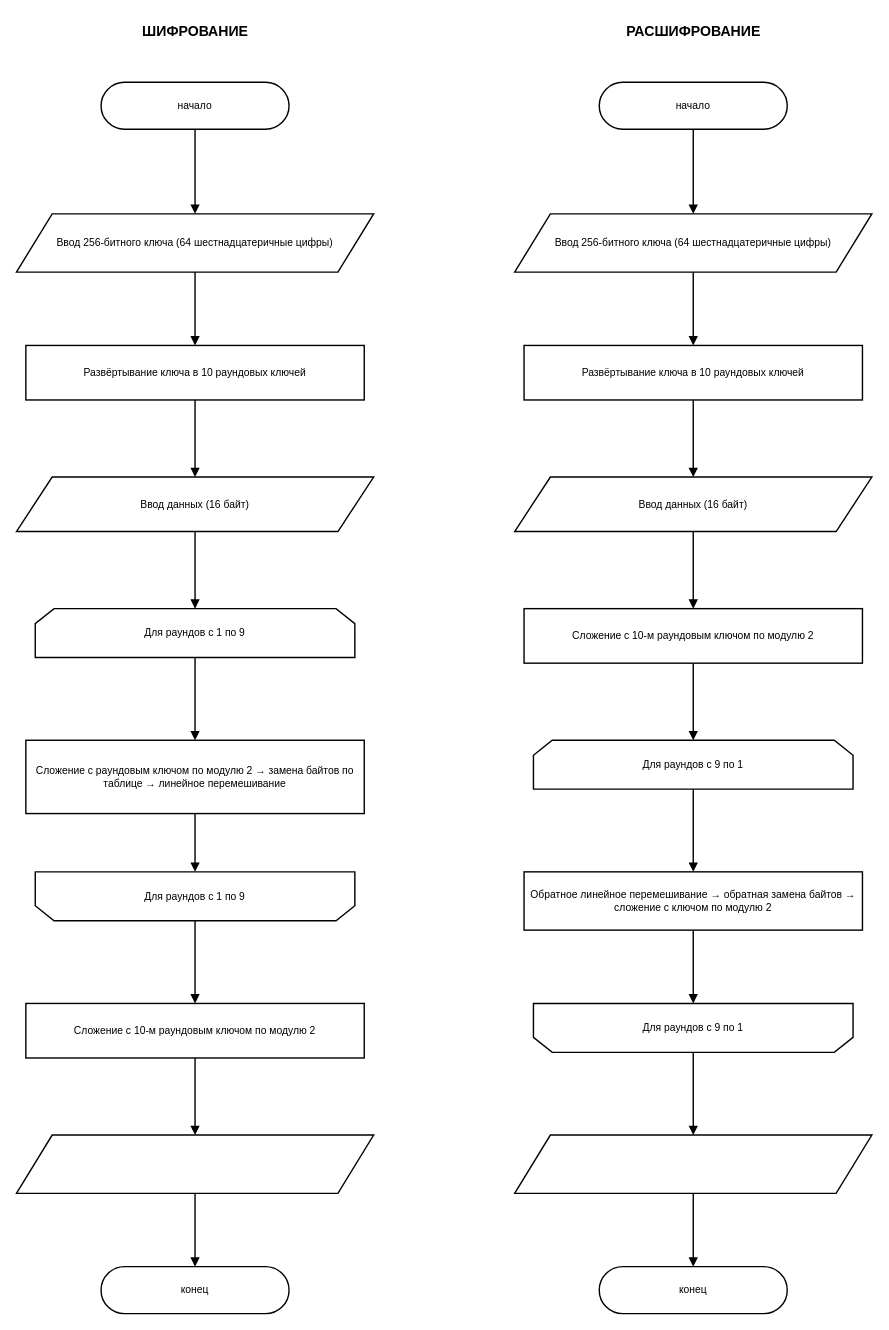
The diagram is 889 pixels wide and 1330 high, and some of its shapes have lost their labels. The box of each missing label's shape, as (x1, y1, x2, y2) in pixels:
Вывод открытого блока (в шестнадцатеричном виде): (514, 1134, 872, 1194)
Вывод шифртекста (в шестнадцатеричном виде): (15, 1134, 374, 1194)
